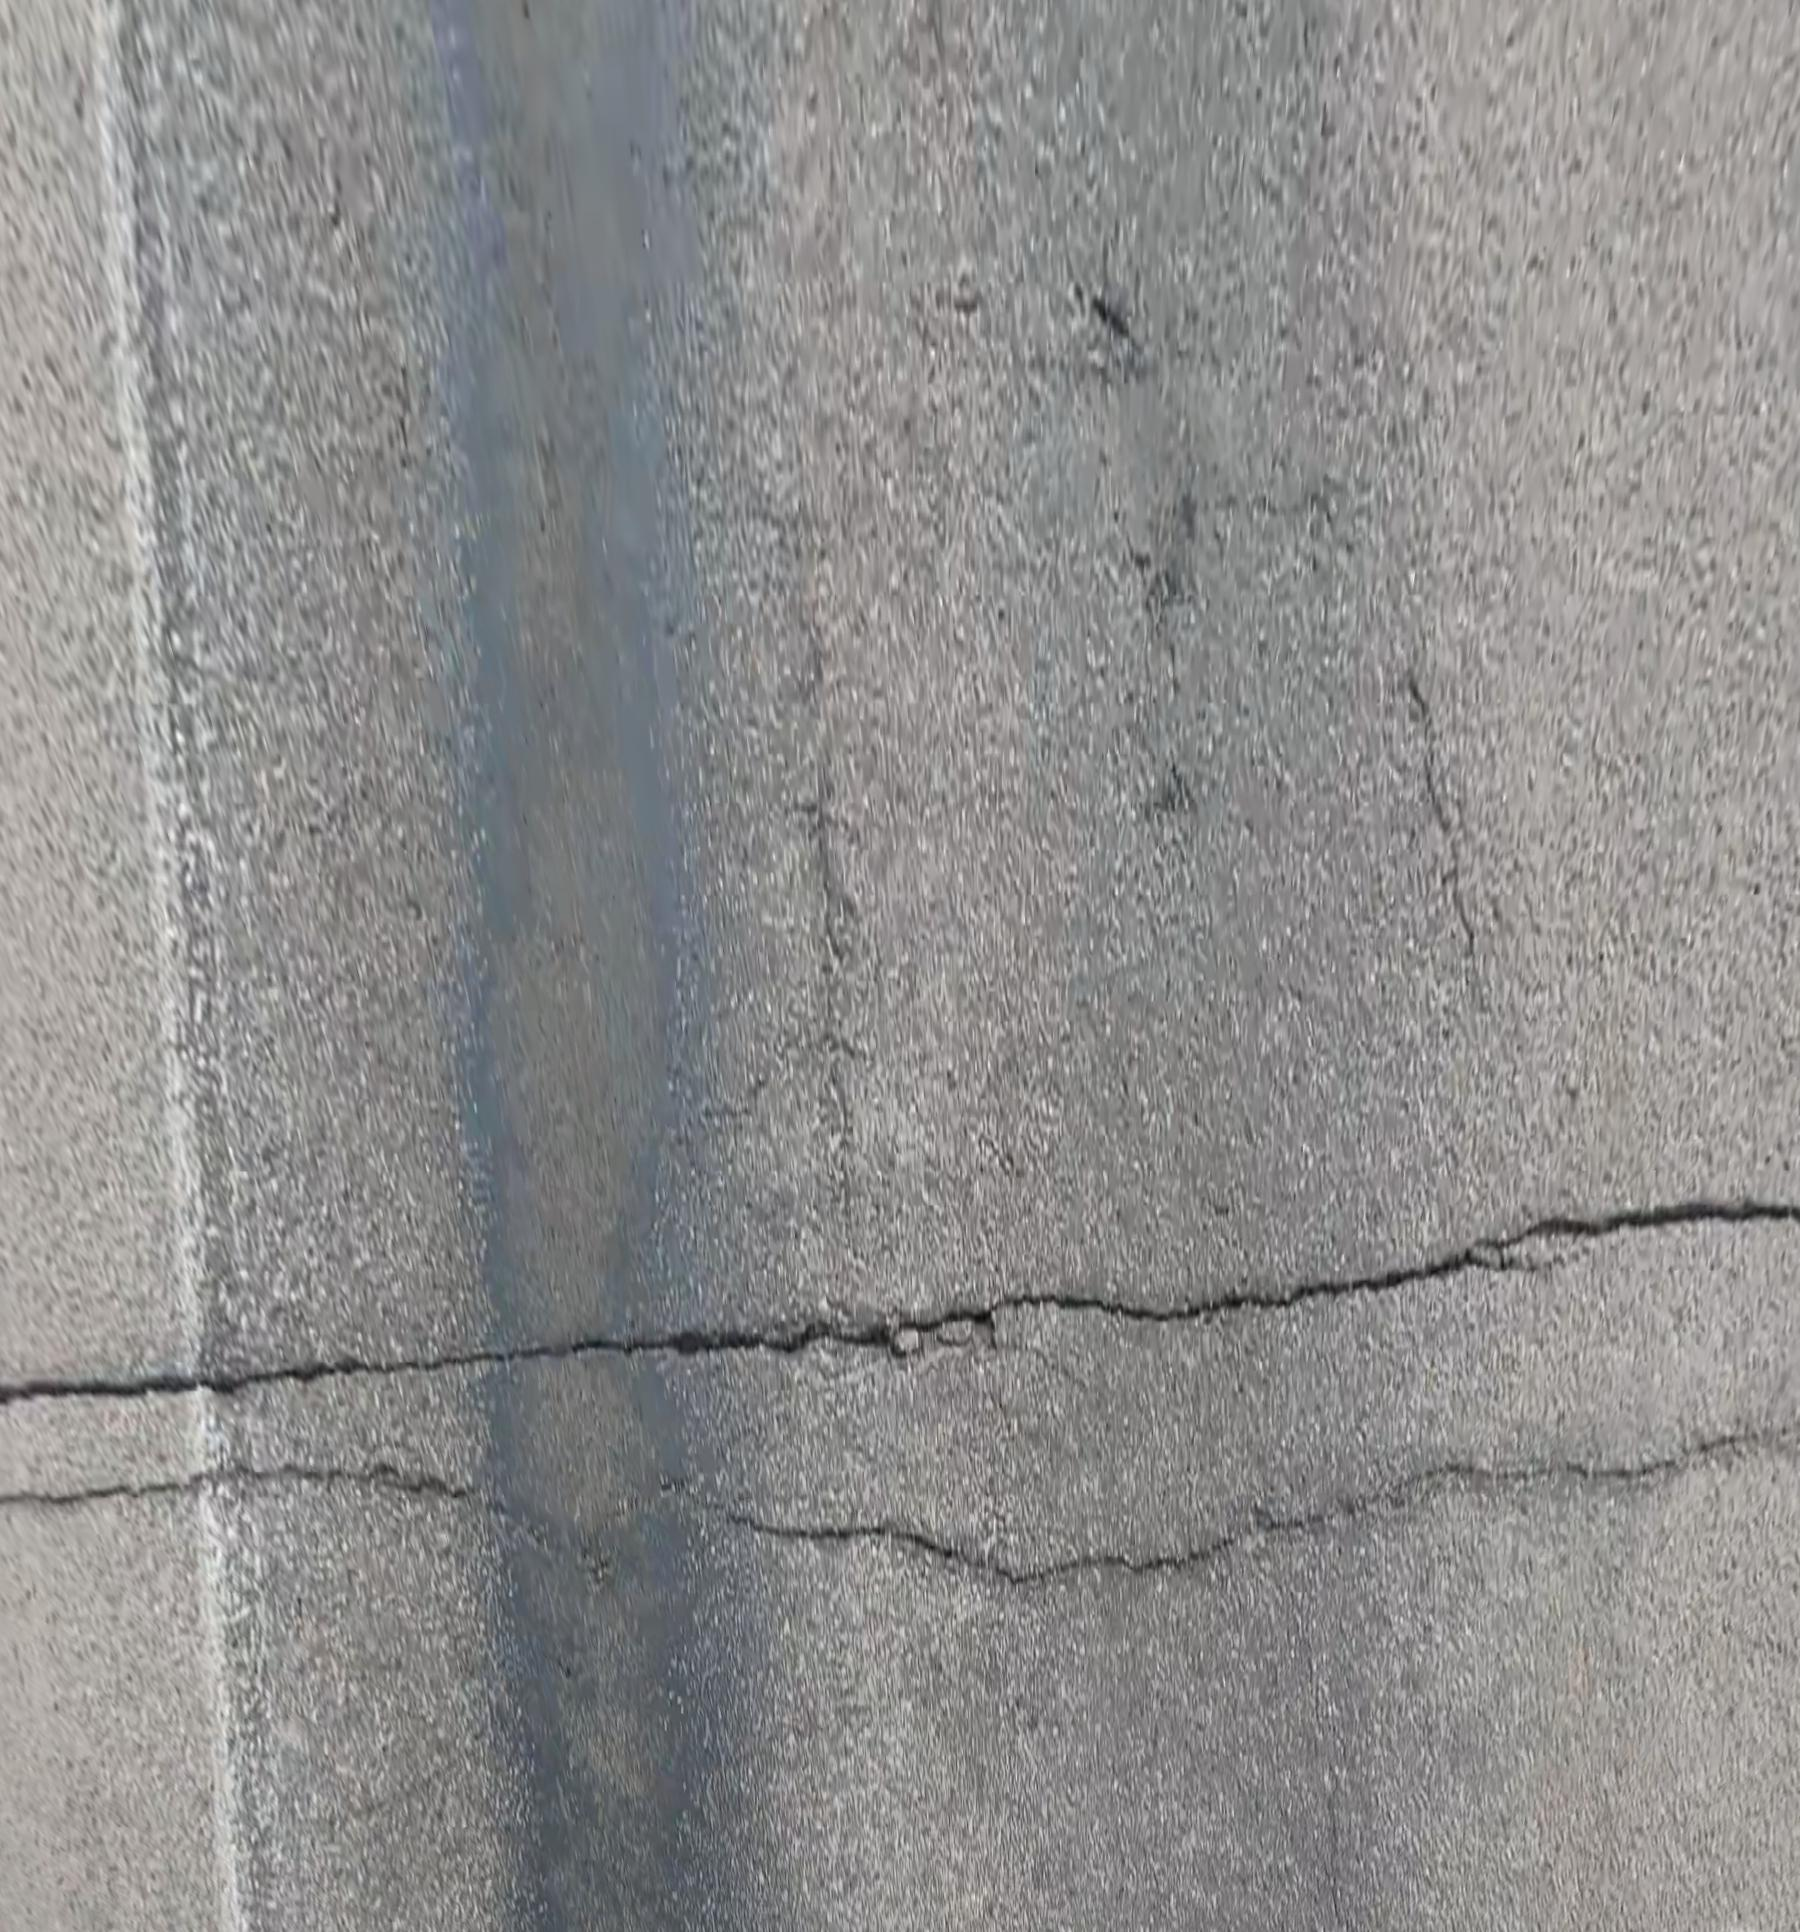pothole_patch_good: (394, 0, 699, 1343)
pothole_patch_poor: (487, 1353, 765, 1932)
